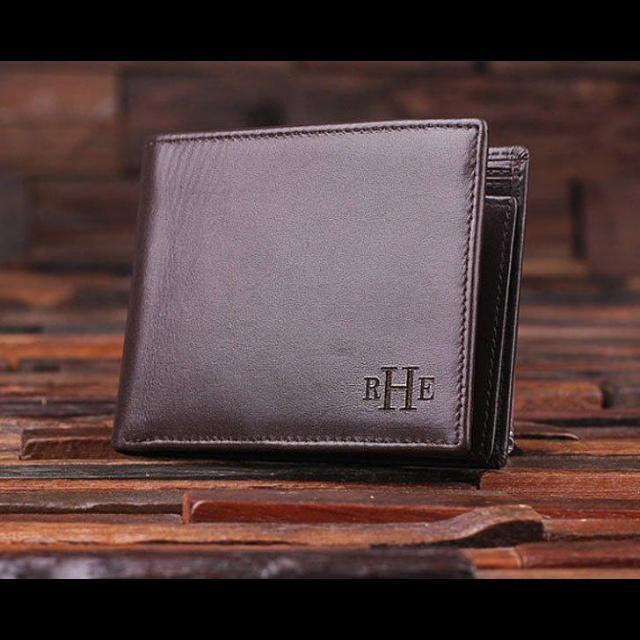wallet: (102, 116, 532, 476)
